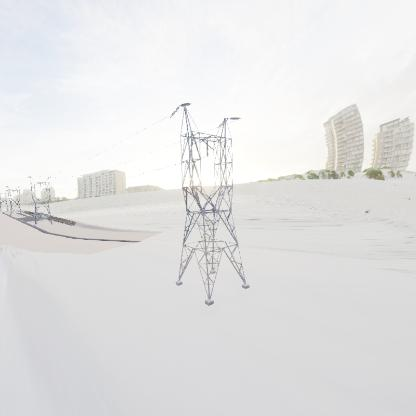tower: (168, 102, 252, 308), (26, 175, 59, 227)
